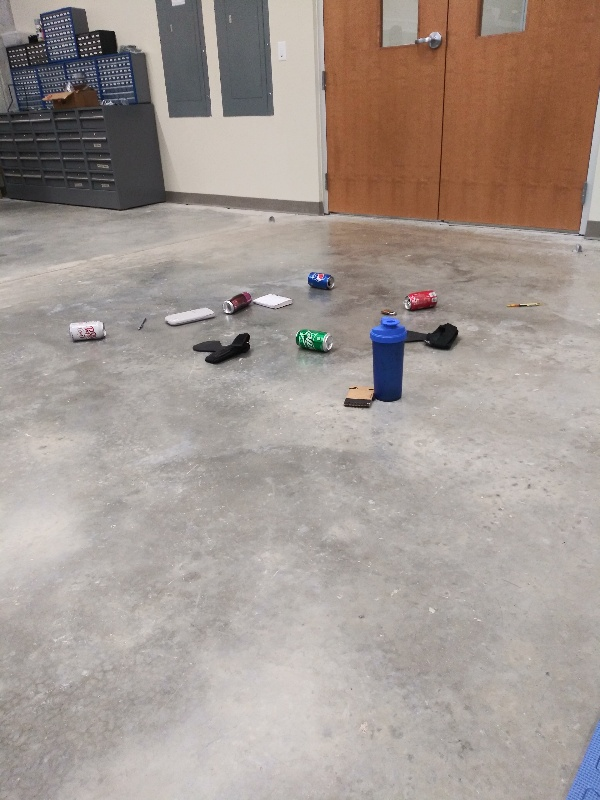can: (292, 323, 339, 354), (65, 316, 114, 344), (219, 288, 255, 317), (401, 288, 444, 311), (304, 266, 338, 291)
